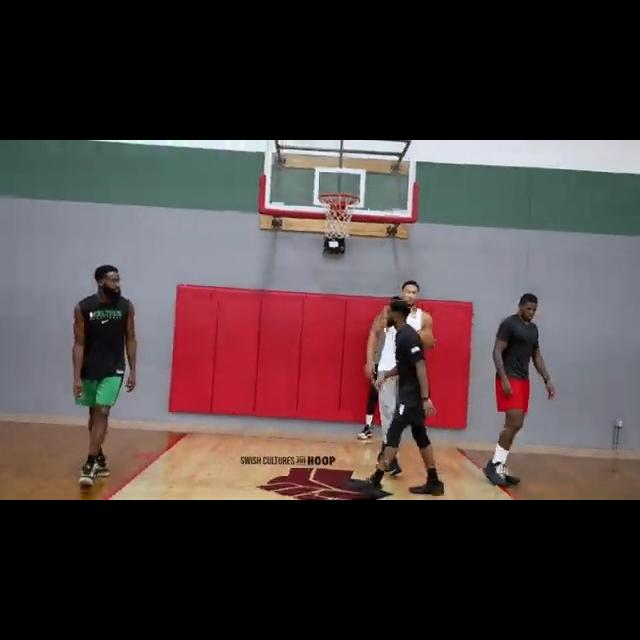hoop: (316, 193, 364, 241)
